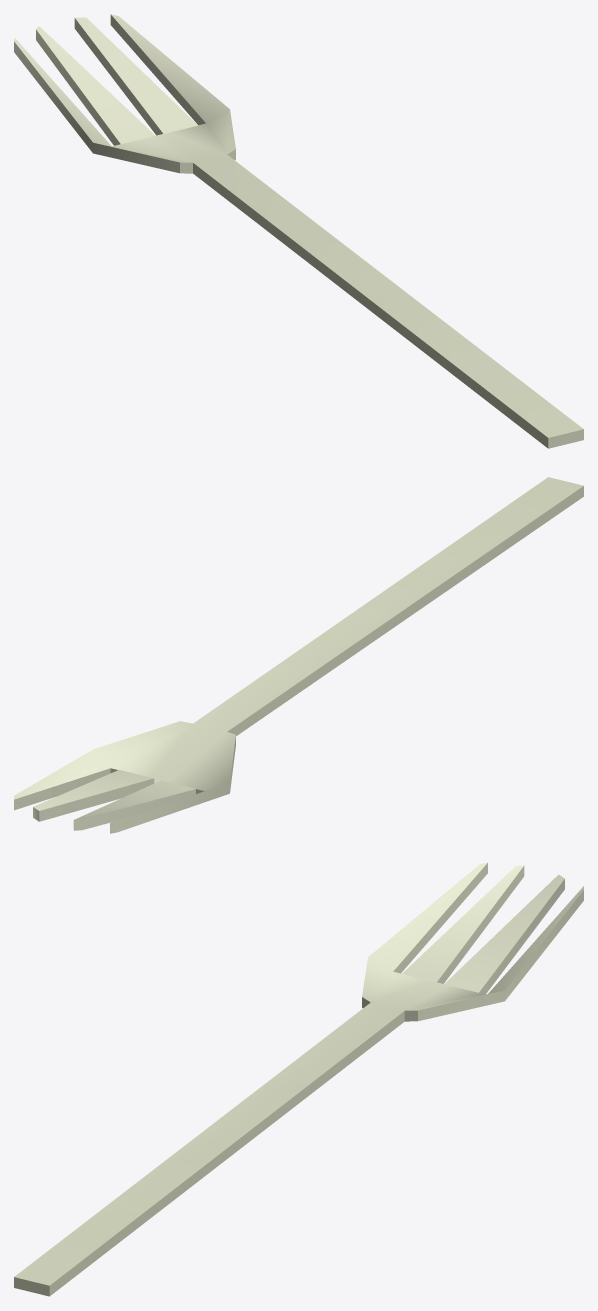
File: Fork.FBX
The picture shows the model from 3 angles, top to bottom: view 1: azimuth 30°, elevation 25°; view 2: azimuth 150°, elevation 25°; view 3: azimuth 330°, elevation 25°; orthographic projection.
Parts seen in each view (by area): view 1: Fork; view 2: Fork; view 3: Fork.
Boxes of the visible parts, x1,y1,x2,y2 form: Fork: [14, 14, 583, 448]; Fork: [14, 477, 583, 833]; Fork: [14, 862, 583, 1296].
Size of the model in its own units: 13.23 by 4.58 by 85.36.
